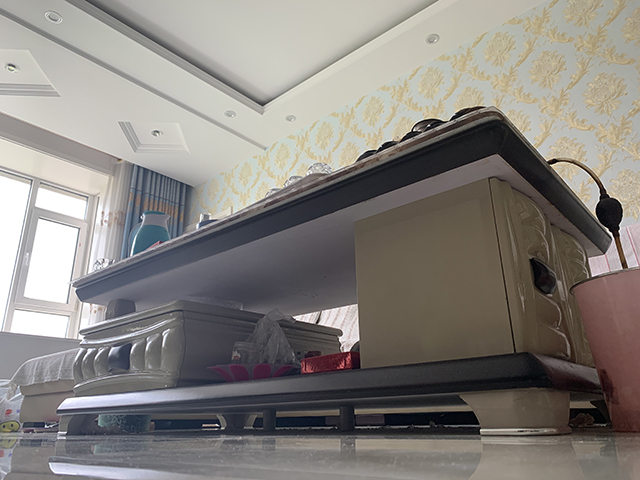sofa: (8, 347, 81, 429)
table: (55, 104, 614, 438)
trashcan: (568, 265, 640, 436)
